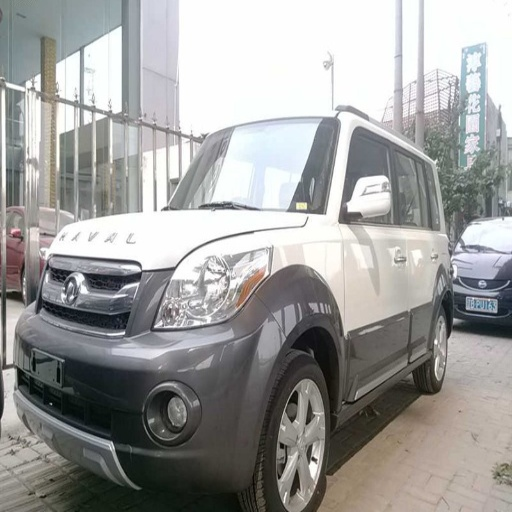front_bumper: (15, 254, 281, 488)
front_glass: (163, 122, 338, 211)
front_left_door: (336, 123, 409, 395)
